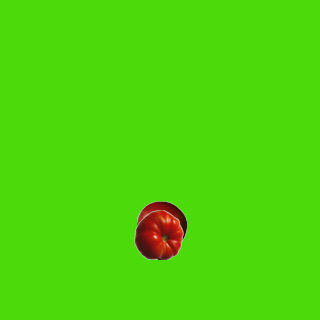Apple Braeburn: (136, 200, 186, 250)
Tomato 3: (133, 209, 183, 259)
